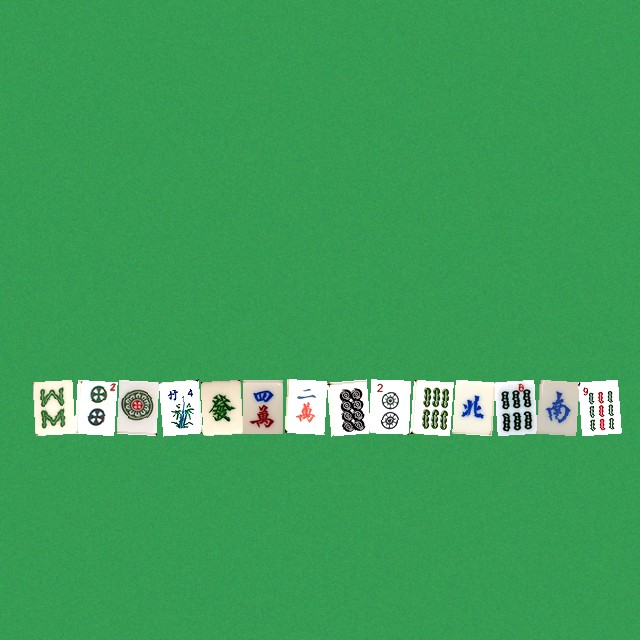tile: (32, 379, 72, 433), (74, 379, 114, 433), (116, 379, 156, 433), (158, 379, 198, 433), (200, 379, 240, 433), (242, 379, 282, 433), (284, 379, 324, 433), (326, 379, 366, 433), (368, 379, 408, 433), (410, 379, 450, 433), (452, 379, 492, 433), (494, 379, 534, 433), (536, 379, 576, 433), (578, 379, 618, 433)
